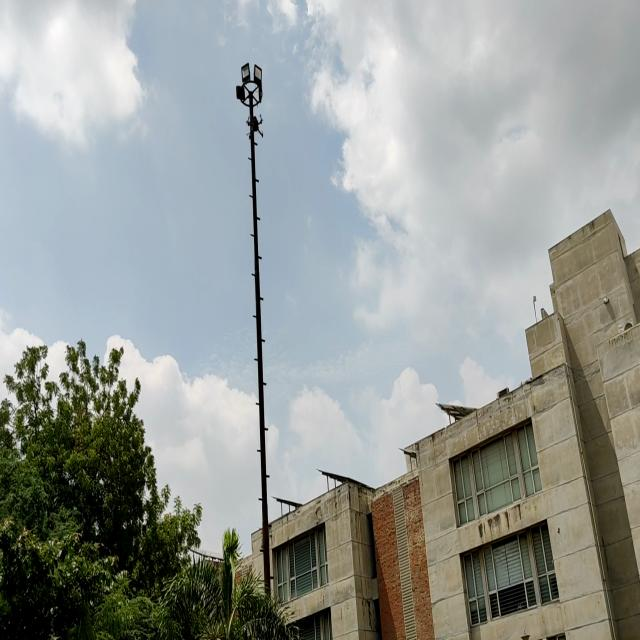drone: (240, 110, 271, 146)
